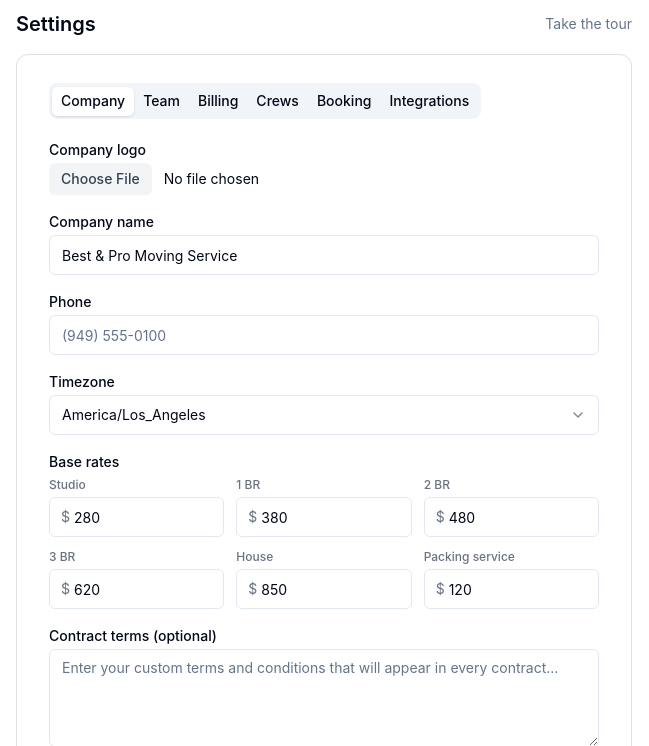
SettingsPage › AC5 — billing tab shows plan info
Click the tab "Billing" at [218, 101], box [189,86,247,116]
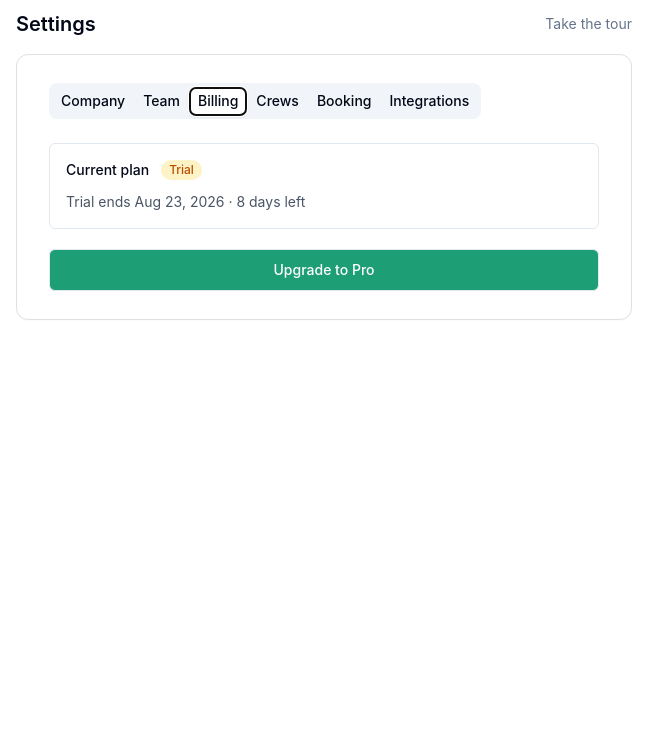
Expected: the text "Current plan" is shown, [66,160,149,180]
Expected: the button "Upgrade to Pro" is shown, [49,249,599,291]
